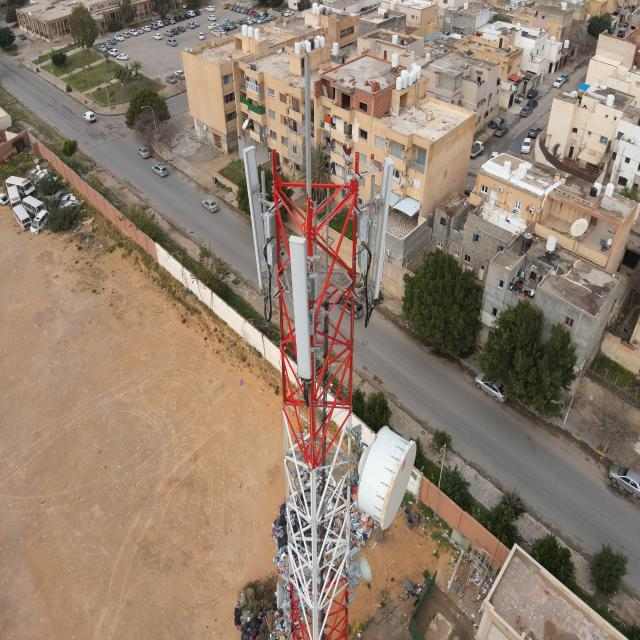Ground Based: (237, 45, 418, 640)
